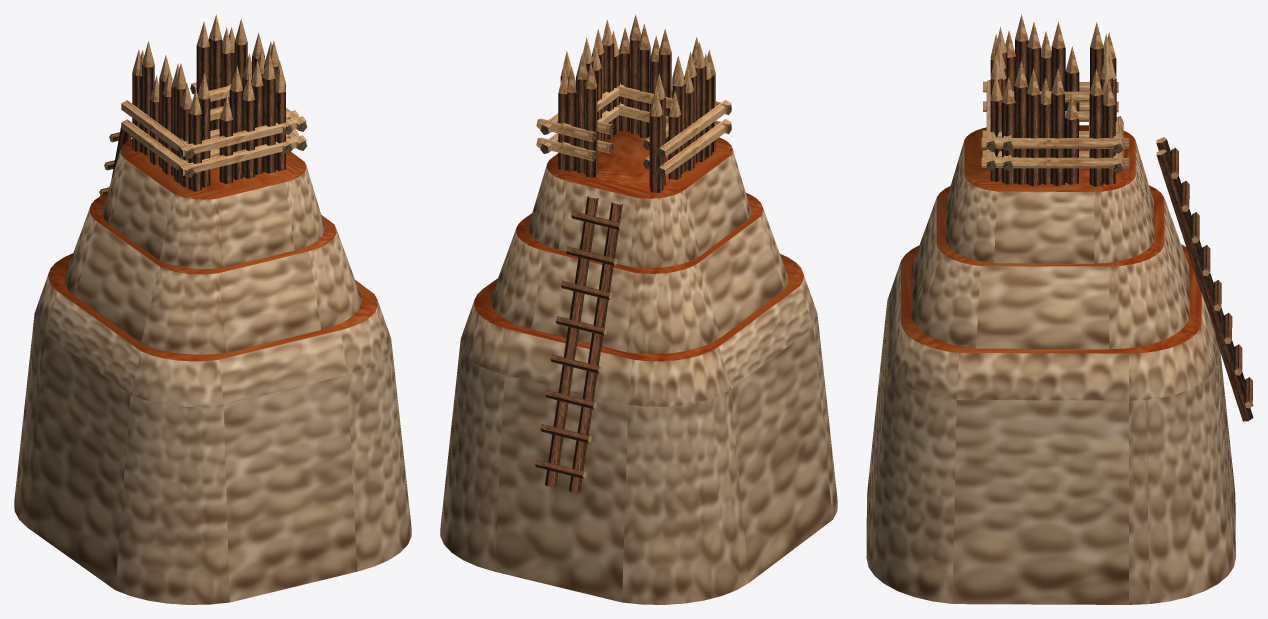
Rendered from defense_tower.dae.
The picture shows the model from 3 angles, left to right: view 1: azimuth 30°, elevation 25°; view 2: azimuth 150°, elevation 25°; view 3: azimuth 270°, elevation 25°; orthographic projection. The views are drawn at different scales.
Parts seen in each view (by area): view 1: tower_a; view 2: tower_a; view 3: tower_a.
Part boxes in pixels (bbox=[...]): tower_a: bbox=[14, 14, 411, 604]; tower_a: bbox=[440, 14, 837, 604]; tower_a: bbox=[866, 14, 1253, 604].
Bounding box in the file's own units: 14.05 × 15.46 × 21.74.
1 material, 1 textured.
